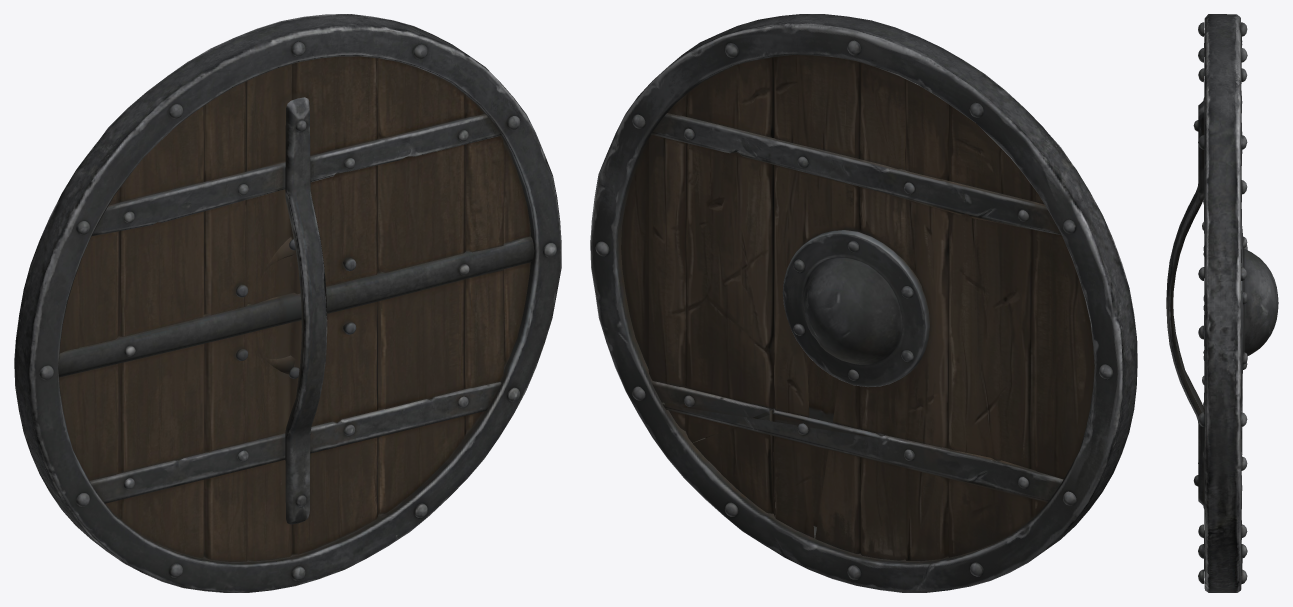
Rendered from scudo_legno_ferro.glb.
The picture shows the model from 3 angles, left to right: view 1: azimuth 30°, elevation 25°; view 2: azimuth 150°, elevation 25°; view 3: azimuth 270°, elevation 25°; orthographic projection. The views are drawn at different scales.
Visible parts, largest first — view 1: scudo_legno_ferro; view 2: scudo_legno_ferro; view 3: scudo_legno_ferro.
Boxes of the visible parts, <box> form: scudo_legno_ferro: <box>14,14,561,592</box>; scudo_legno_ferro: <box>590,14,1137,592</box>; scudo_legno_ferro: <box>1166,14,1278,592</box>.
Size of the model in its own units: 0.68 by 0.6767 by 0.1312.
Materials: 1 (1 with a texture image).
